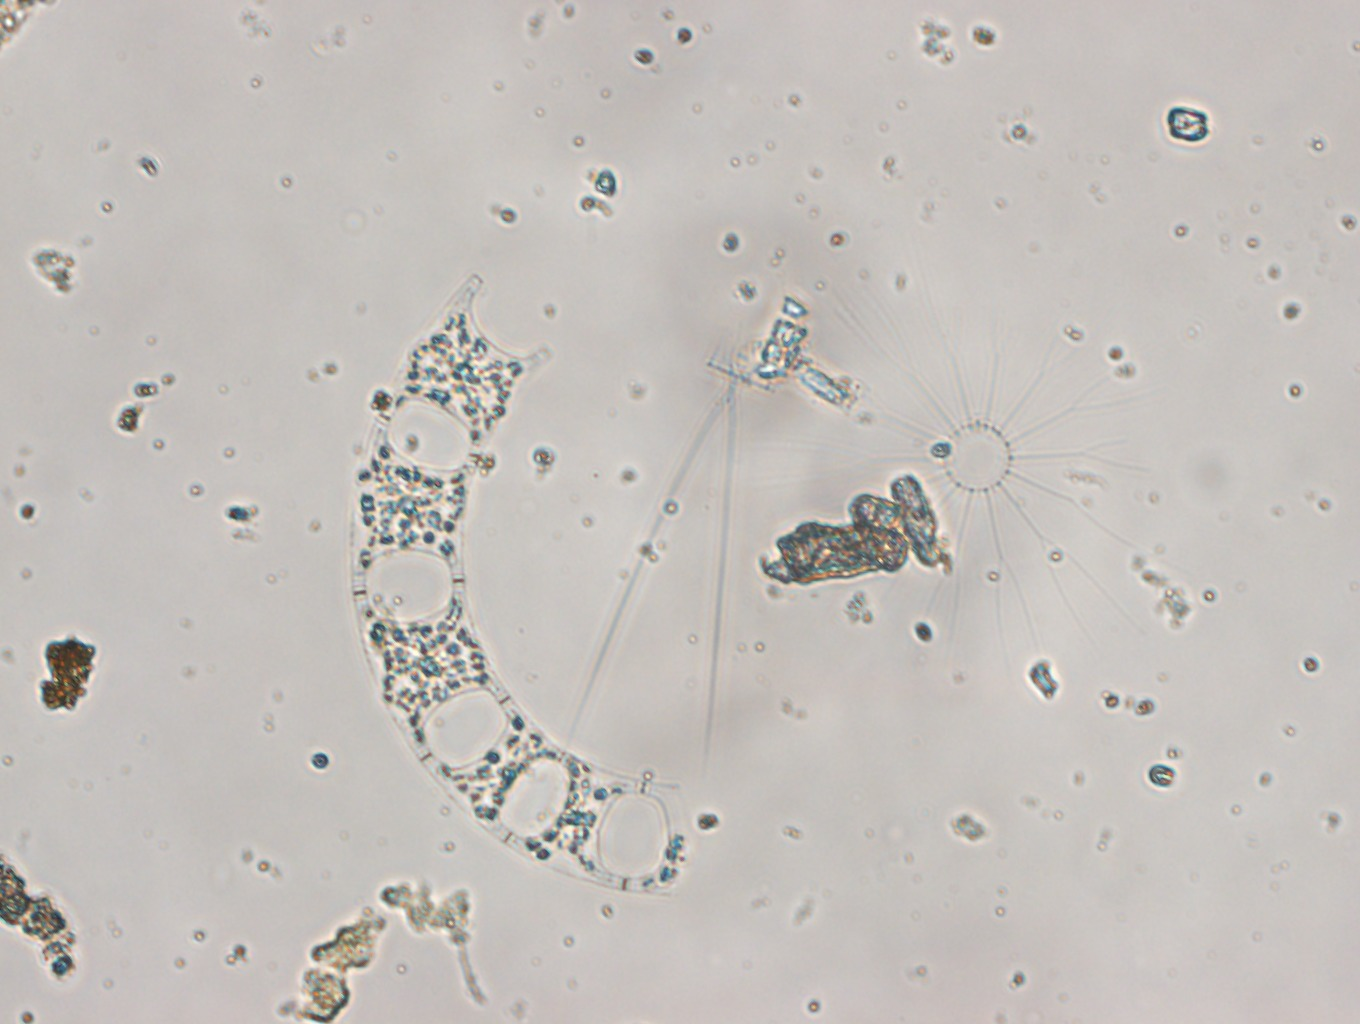bacteriastrum: (808, 274, 1170, 663)
chaetoceros: (570, 284, 811, 792)
eucampia: (346, 275, 693, 897)
